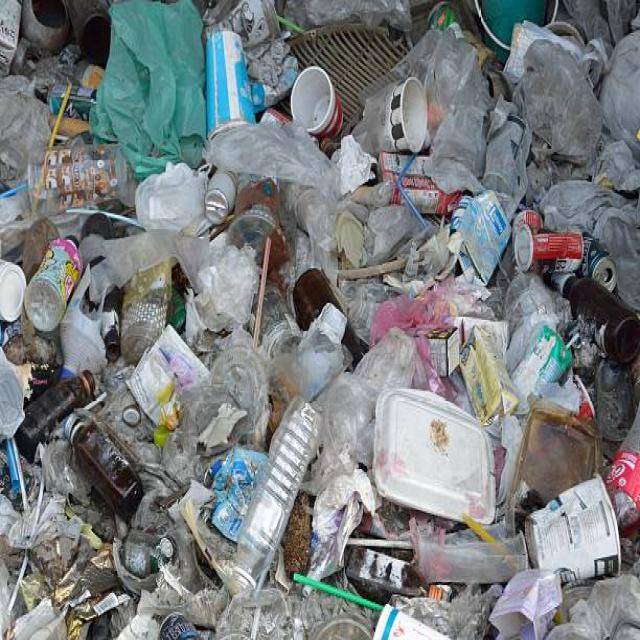plastic: (201, 36, 512, 535)
